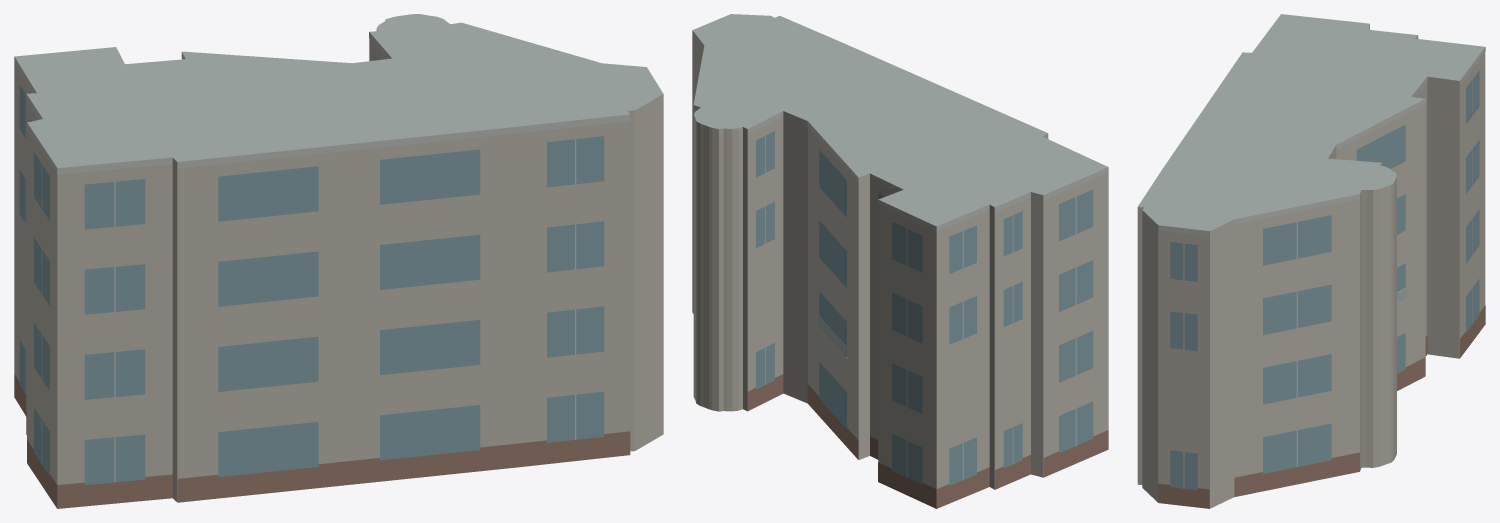
Rendered from survey-upis-32470906.glb.
3 views of the same model, side by side, from view 1: azimuth 30°, elevation 25°; view 2: azimuth 150°, elevation 25°; view 3: azimuth 270°, elevation 25° (orthographic). The views are drawn at different scales.
Parts seen in each view (by area): view 1: survey-upis-32470906.tmp; view 2: survey-upis-32470906.tmp; view 3: survey-upis-32470906.tmp.
Boxes of the visible parts, x1,y1,x2,y2 form: survey-upis-32470906.tmp: [14, 14, 663, 508]; survey-upis-32470906.tmp: [692, 14, 1108, 508]; survey-upis-32470906.tmp: [1137, 14, 1485, 508].
Bounding box in the file's own units: 21.64 × 12.9 × 14.65.
